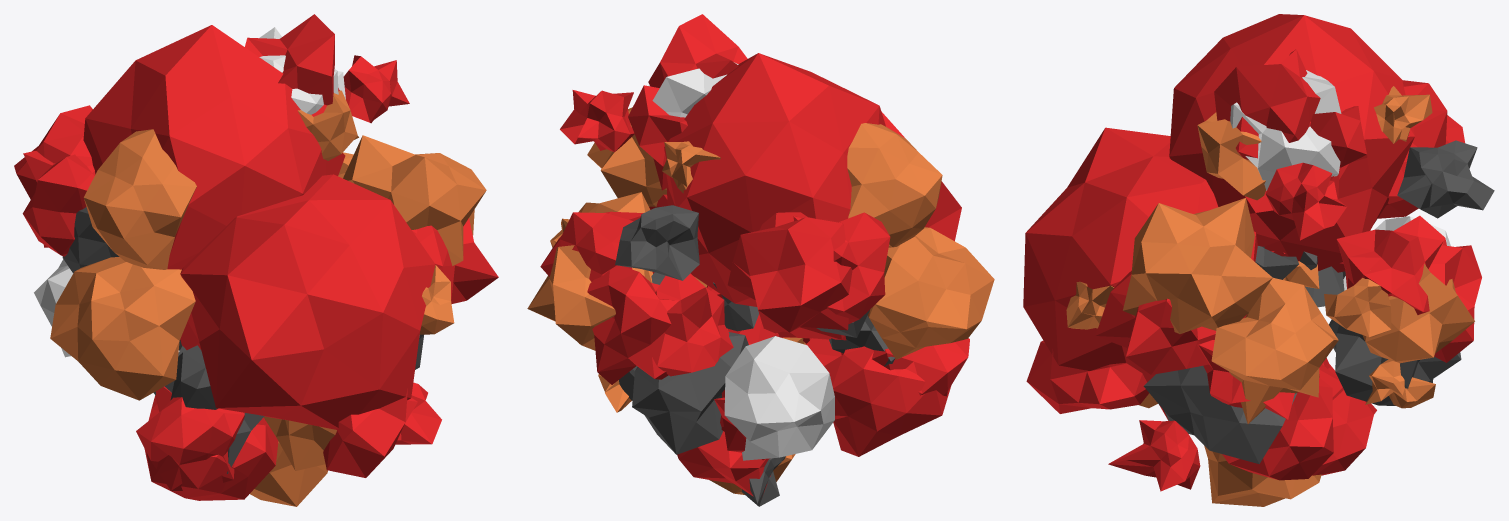
Rendered from Explosion.fbx.
The picture shows the model from 3 angles, left to right: view 1: azimuth 30°, elevation 25°; view 2: azimuth 150°, elevation 25°; view 3: azimuth 270°, elevation 25°; orthographic projection. The views are drawn at different scales.
Parts seen in each view (by area): view 1: Explosion; view 2: Explosion; view 3: Explosion.
Boxes of the visible parts, x1,y1,x2,y2 form: Explosion: (14, 14, 498, 506); Explosion: (527, 14, 994, 506); Explosion: (1023, 14, 1494, 506).
Size of the model in its own units: 740 by 819 by 733.
